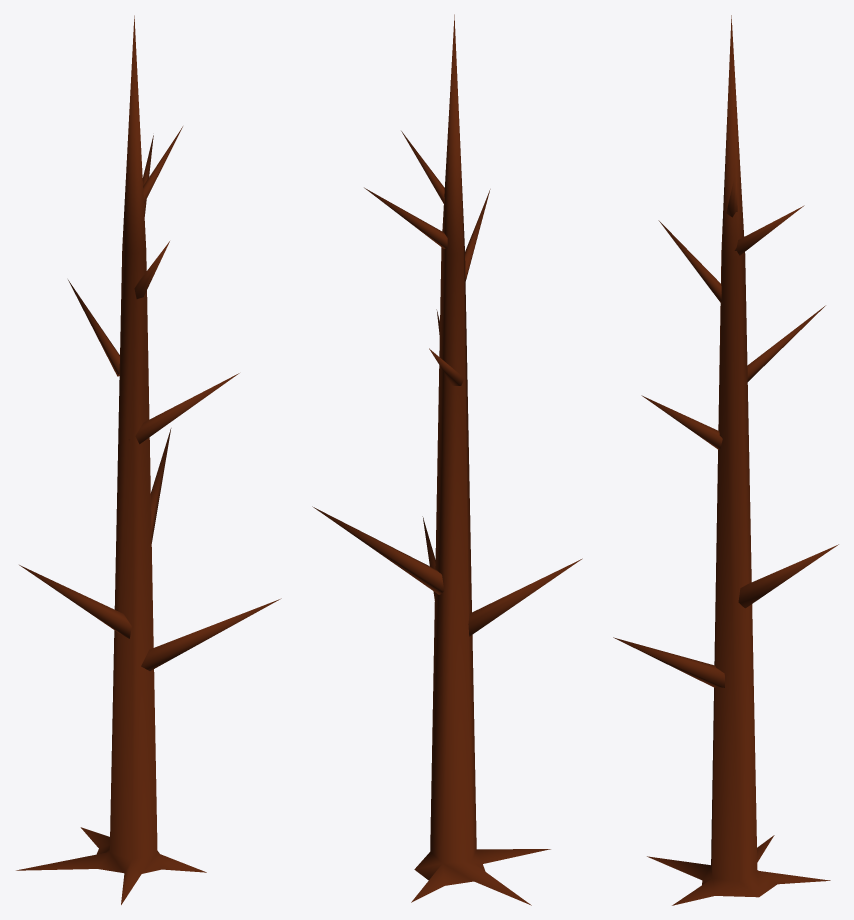
File: TreeDead.fbx
3 views of the same model, side by side, from view 1: azimuth 30°, elevation 25°; view 2: azimuth 150°, elevation 25°; view 3: azimuth 270°, elevation 25° (orthographic). The views are drawn at different scales.
Parts seen in each view (by area): view 1: tree-dead; view 2: tree-dead; view 3: tree-dead.
Boxes of the visible parts, left/top/right/bottom form: tree-dead: left=16, top=15, right=281, bottom=904; tree-dead: left=312, top=14, right=582, bottom=905; tree-dead: left=613, top=15, right=838, bottom=905.
Size of the model in its own units: 207 by 788 by 187.
1 material, 1 textured.
